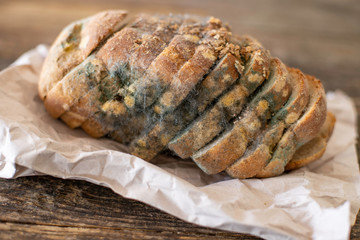mold_bread: (169, 73, 301, 162), (81, 64, 166, 147)
